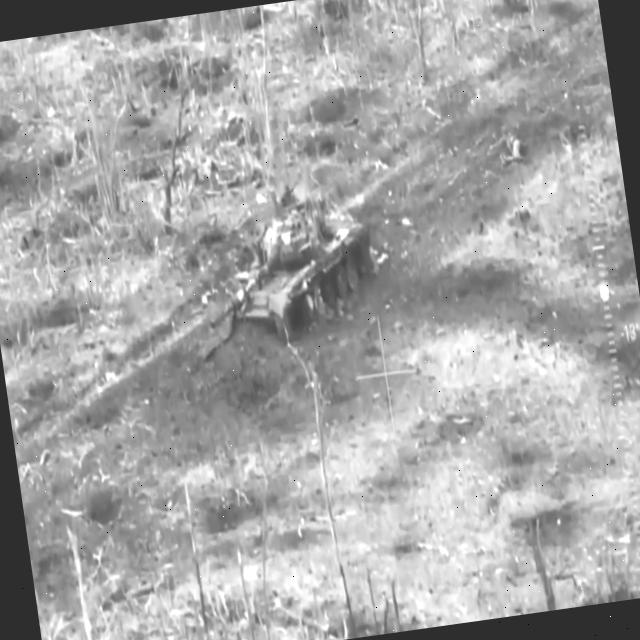MBT: (210, 191, 383, 344)
